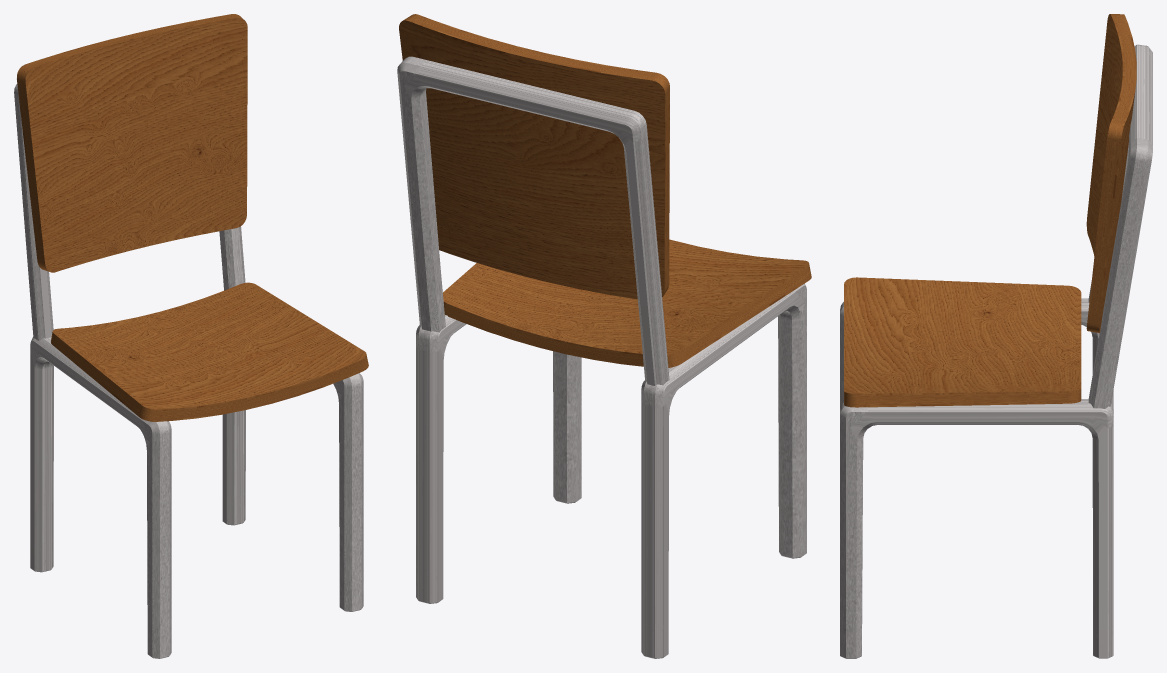
Rendered from Student_ARt_Chair.fbx.
3 renders of one model, left to right at view 1: azimuth 30°, elevation 25°; view 2: azimuth 150°, elevation 25°; view 3: azimuth 270°, elevation 25°, orthographic. The views are drawn at different scales.
Parts seen in each view (by area): view 1: Wooden, Metal_Legs; view 2: Wooden, Metal_Legs; view 3: Wooden, Metal_Legs.
Boxes of the visible parts, <box> form: Wooden: <box>17,14,368,421</box>; Metal_Legs: <box>14,84,363,658</box>; Wooden: <box>399,14,811,367</box>; Metal_Legs: <box>397,56,806,658</box>; Wooden: <box>844,14,1136,407</box>; Metal_Legs: <box>840,44,1152,658</box>.
Bounding box in the file's own units: 3.6 × 7.57 × 4.01.
Materials: 2 (2 with a texture image).
